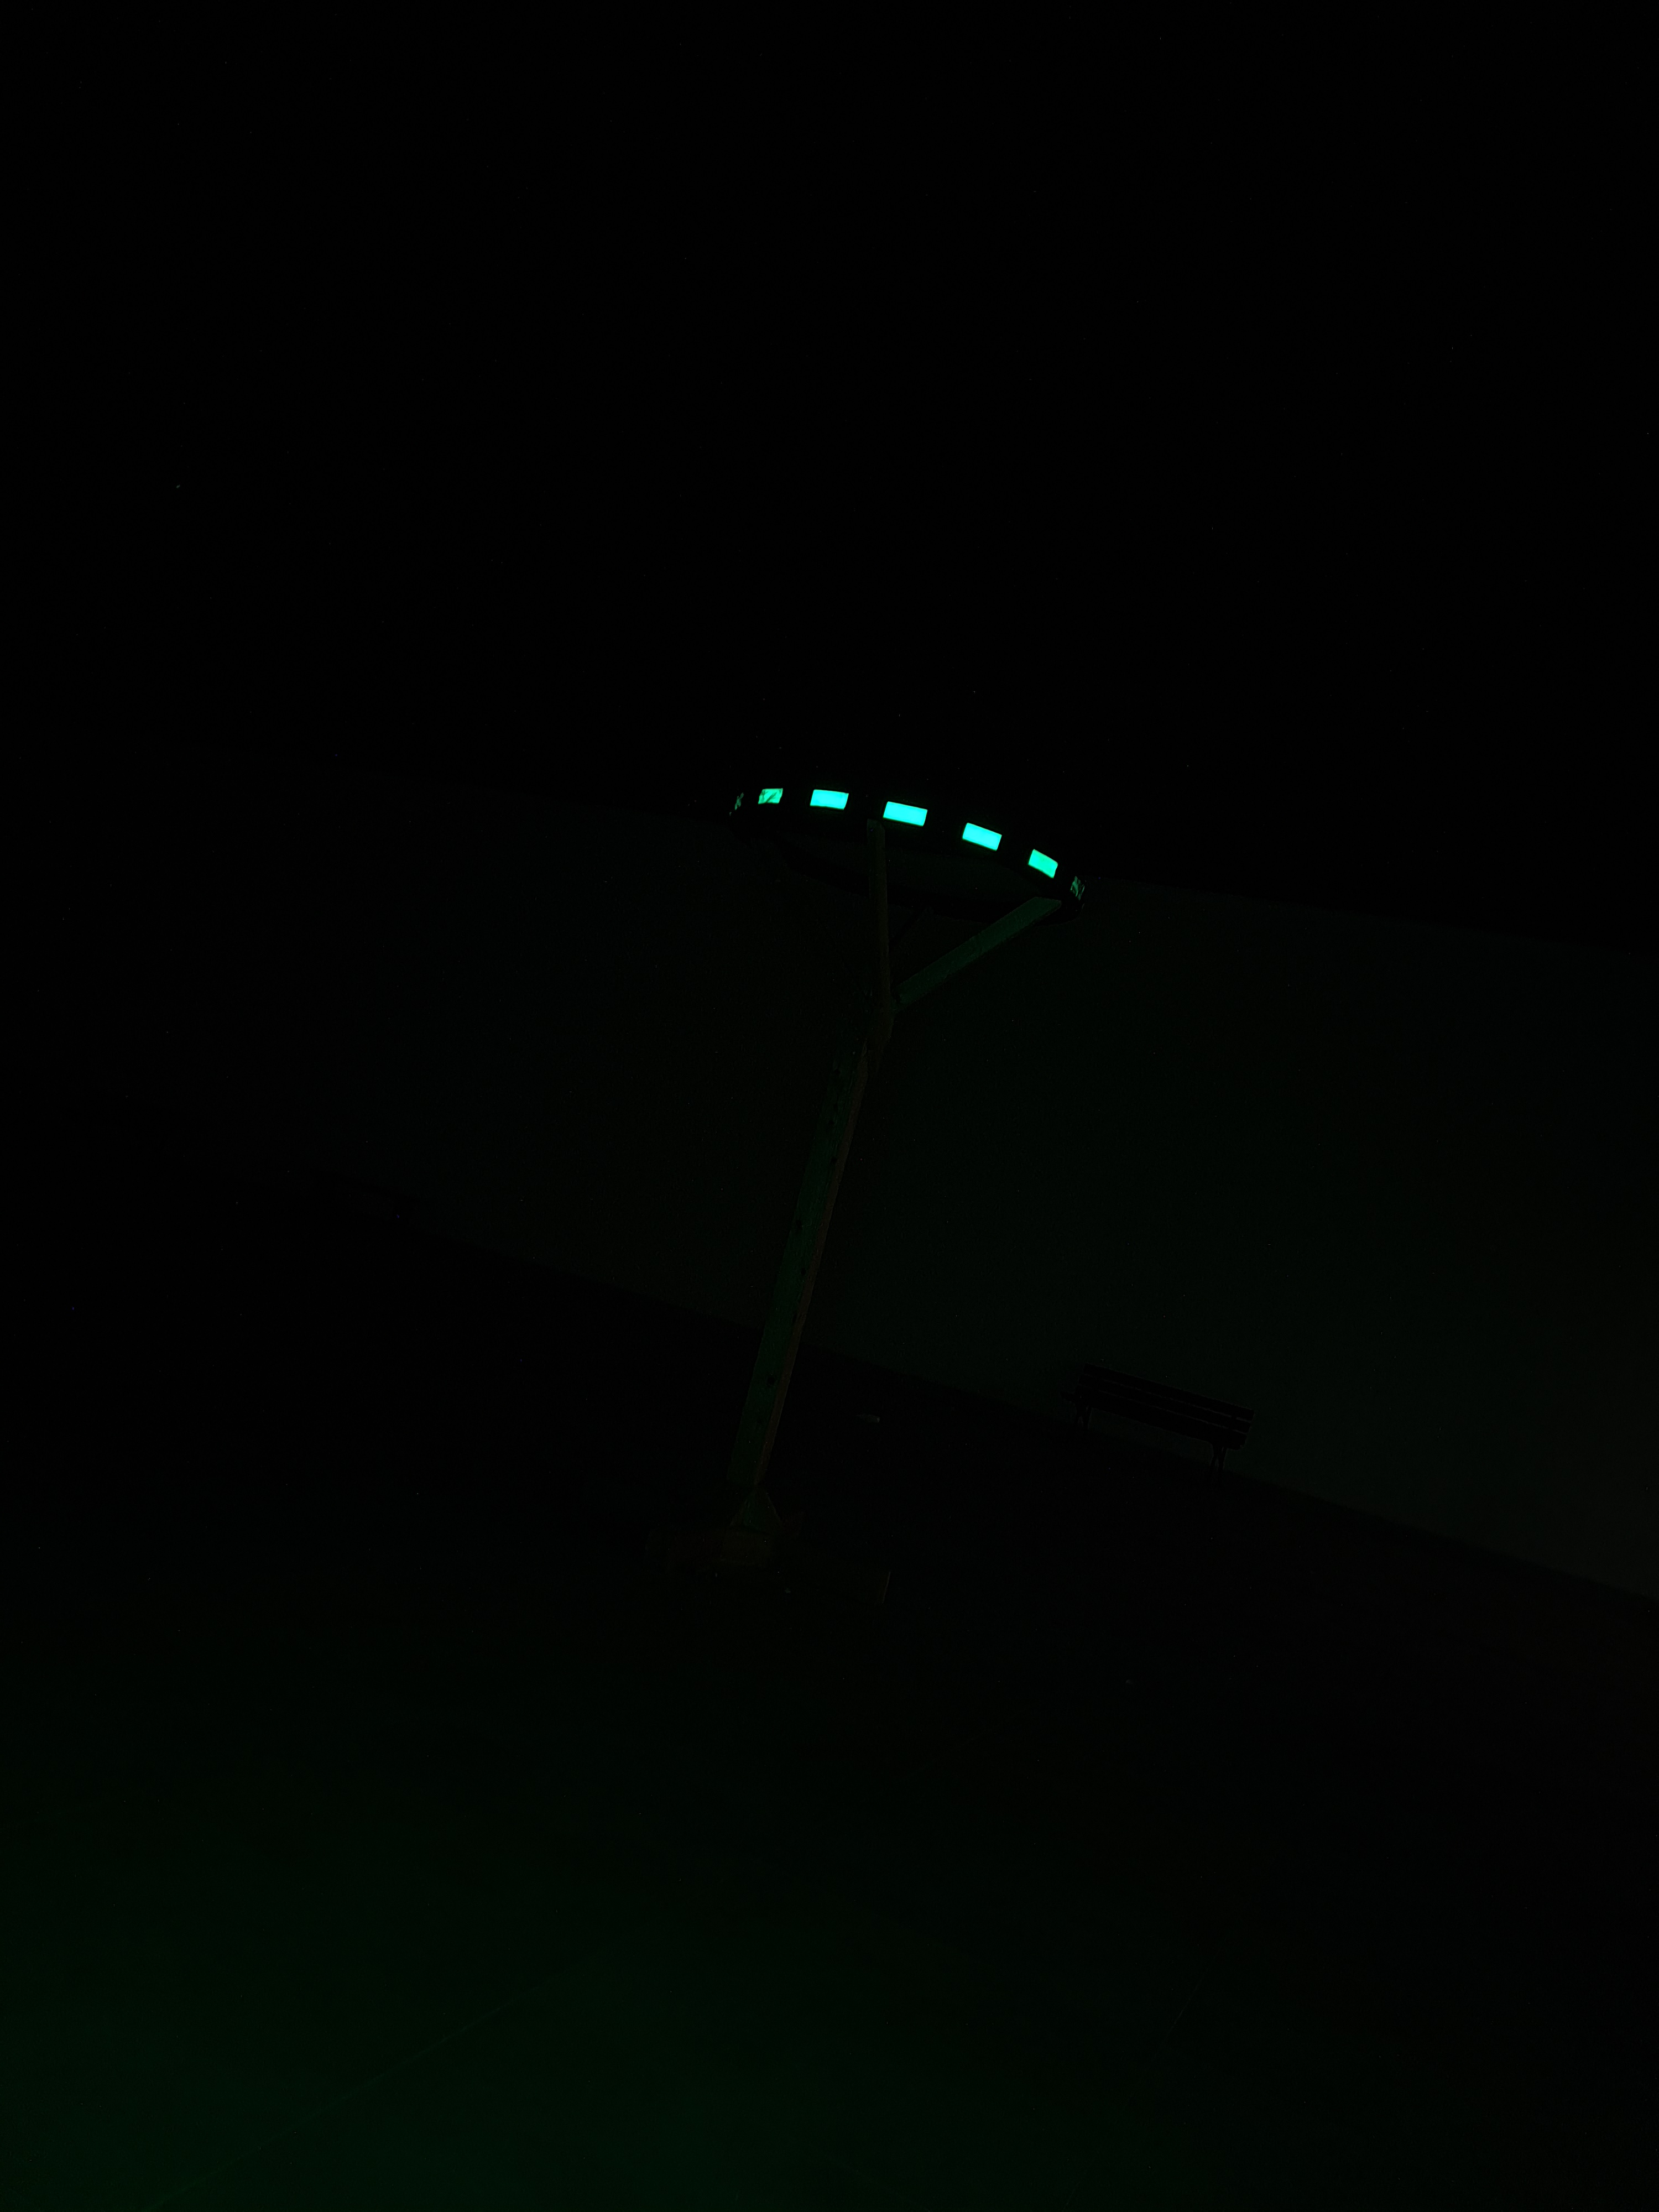hoop: (728, 780, 1087, 906)
